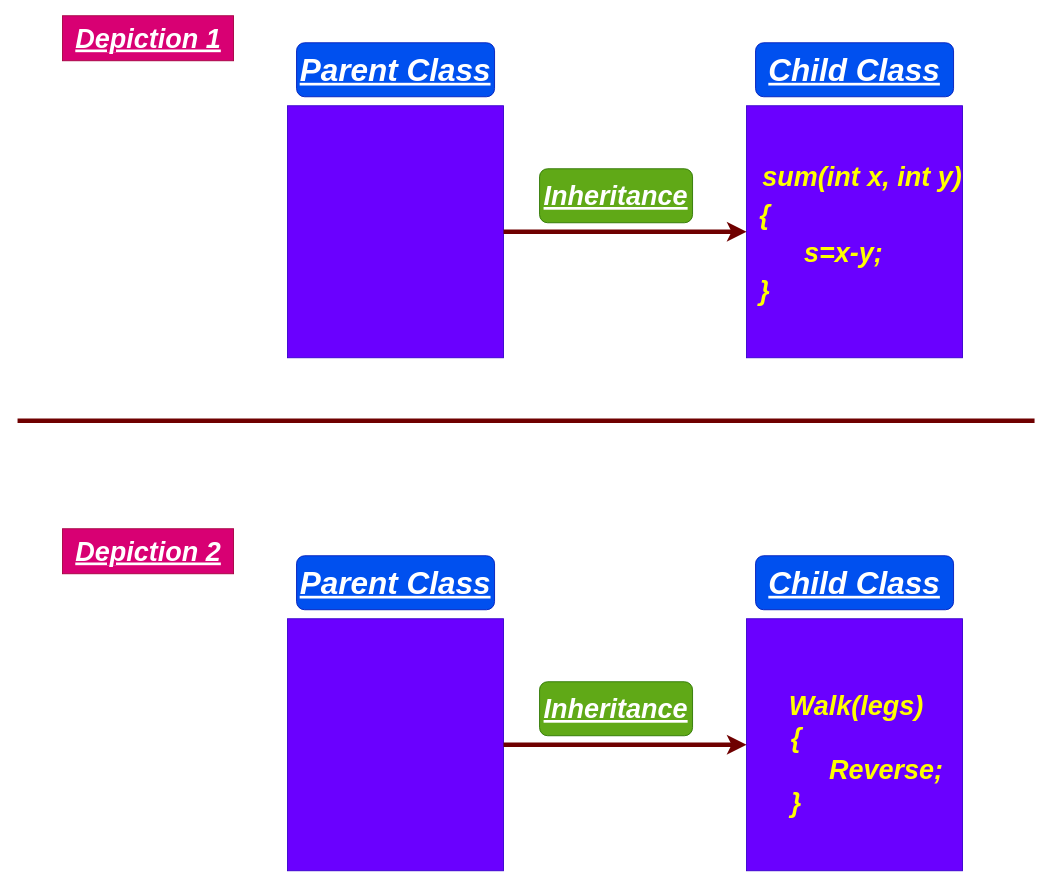
Some shapes in this 1053 by 887 pixel diagram are drawn without their labels. The shapes that lost their labels are listed below. From the top down, each one's box as (x1, y1, x2, y2) in pixels, then its label:
(287, 105, 504, 358): sum(int x, int y) { s=x+y; }
(287, 618, 504, 871): Walk(legs) { Forward; }
